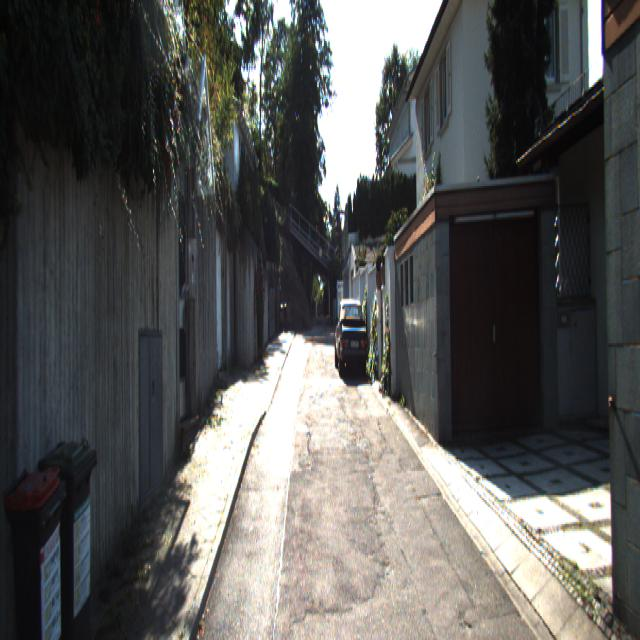Car: (333, 295, 369, 379)
